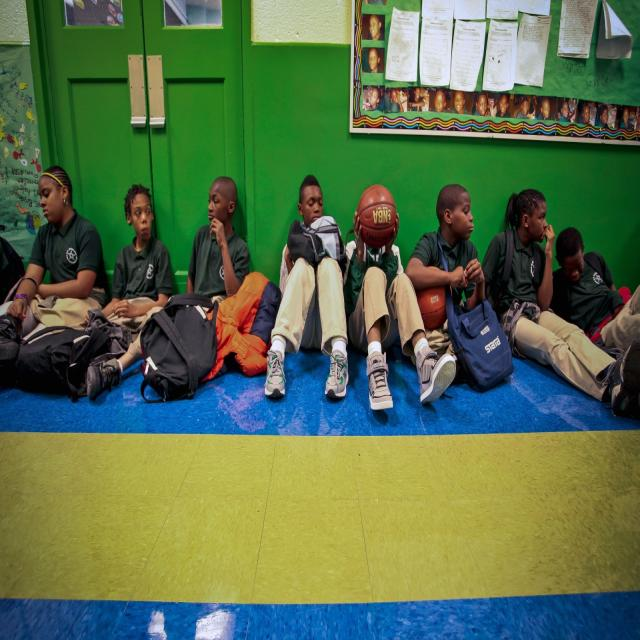body: (472, 187, 640, 424), (342, 210, 457, 411), (72, 183, 175, 399), (264, 175, 352, 403), (0, 163, 110, 345), (403, 184, 490, 380), (549, 226, 640, 360), (387, 87, 640, 133), (185, 176, 251, 299), (0, 225, 26, 386), (362, 0, 386, 114)
